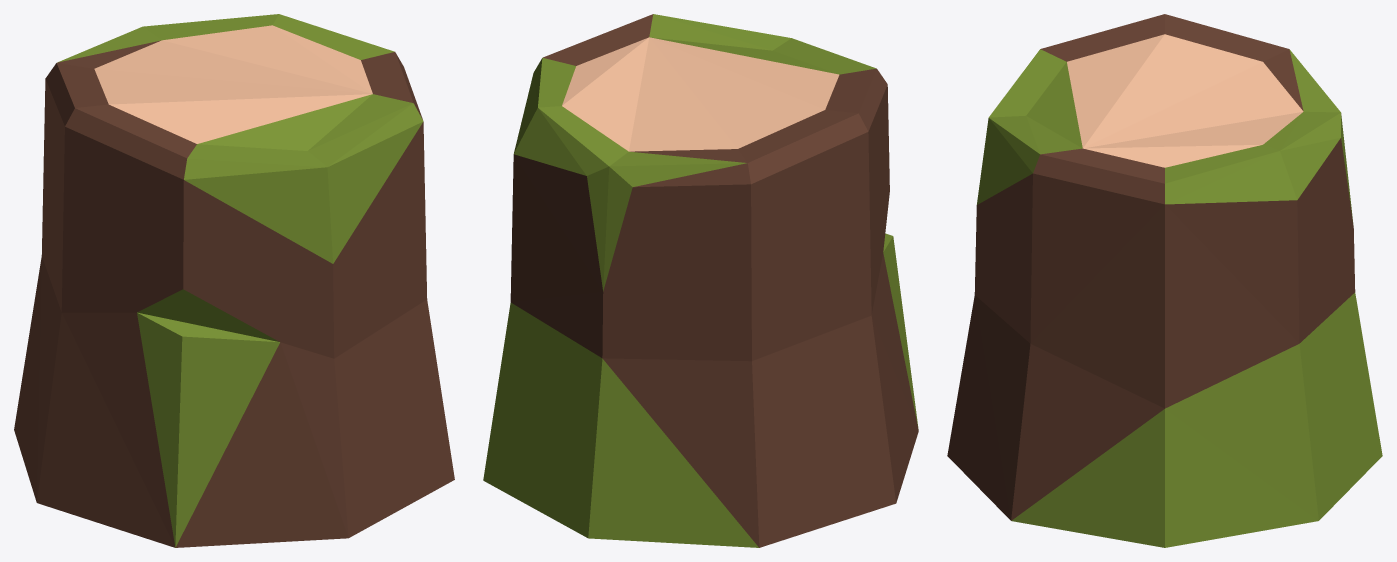
File: TreeTrunk_1_Moss.fbx
The picture shows the model from 3 angles, left to right: view 1: azimuth 30°, elevation 25°; view 2: azimuth 150°, elevation 25°; view 3: azimuth 270°, elevation 25°; orthographic projection. The views are drawn at different scales.
Visible parts, largest first — view 1: TreeTrunk_1_Moss; view 2: TreeTrunk_1_Moss; view 3: TreeTrunk_1_Moss.
Part boxes in pixels (box(x1,y1,x2,y2)): TreeTrunk_1_Moss: box(14, 14, 454, 547); TreeTrunk_1_Moss: box(483, 14, 918, 547); TreeTrunk_1_Moss: box(947, 14, 1382, 547).
Size of the model in its own units: 0.8299 by 0.7736 by 0.8299.
